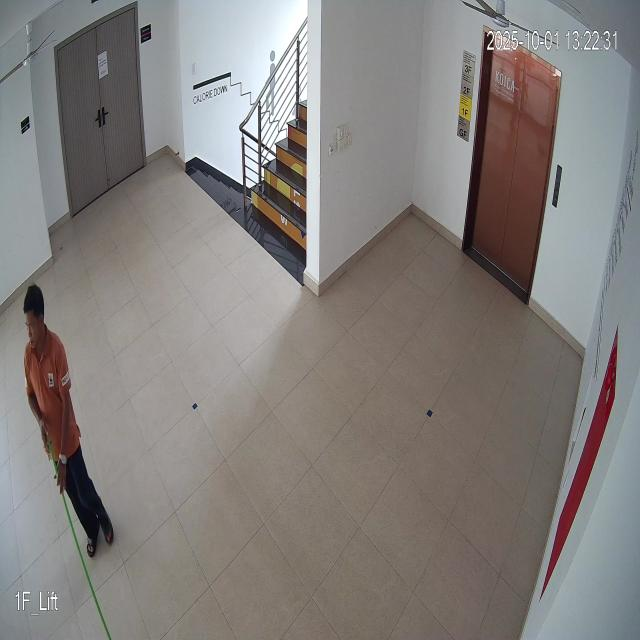face: (20, 276, 50, 356)
